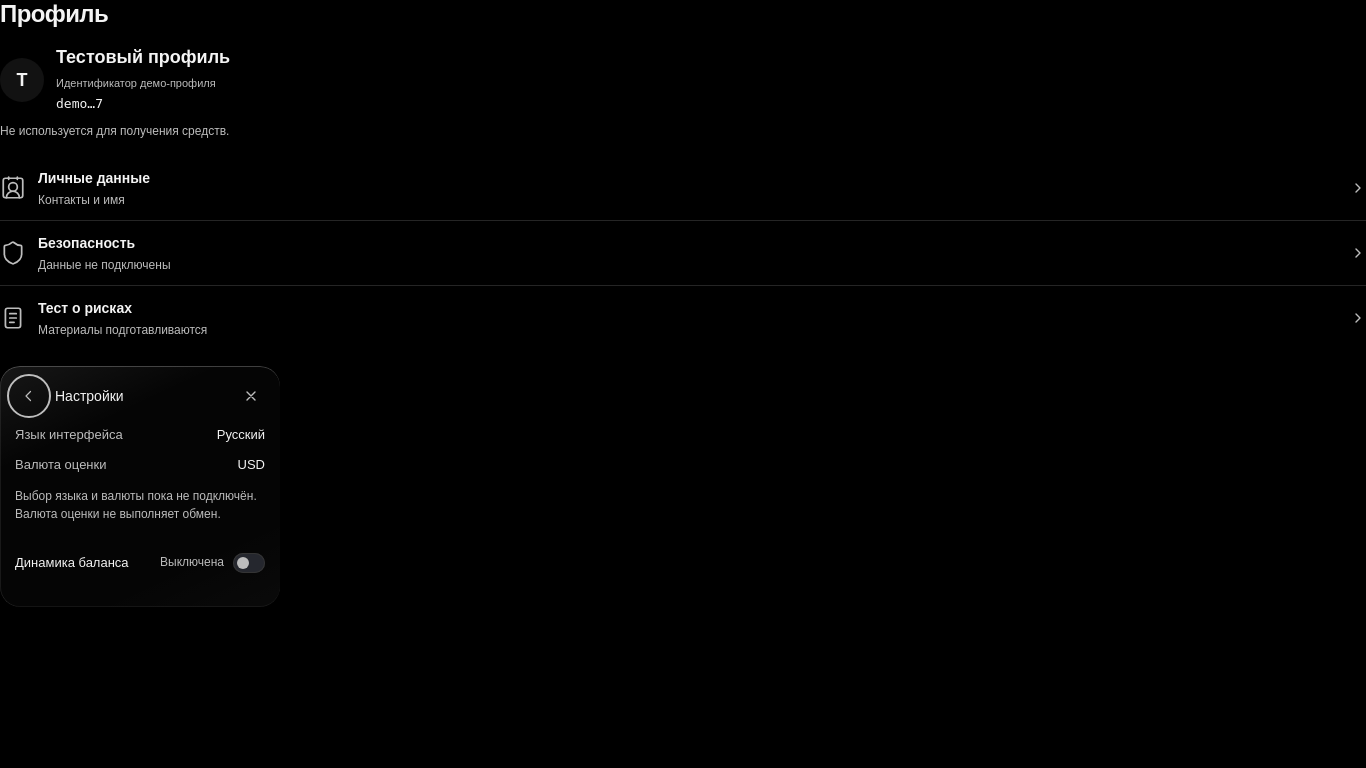
Test case: balance dynamics Profile Settings shares the Gold host control with ready profile data
Click the switch labelled "Динамика баланса" at coordinates (140, 563), box [15, 535, 265, 591]
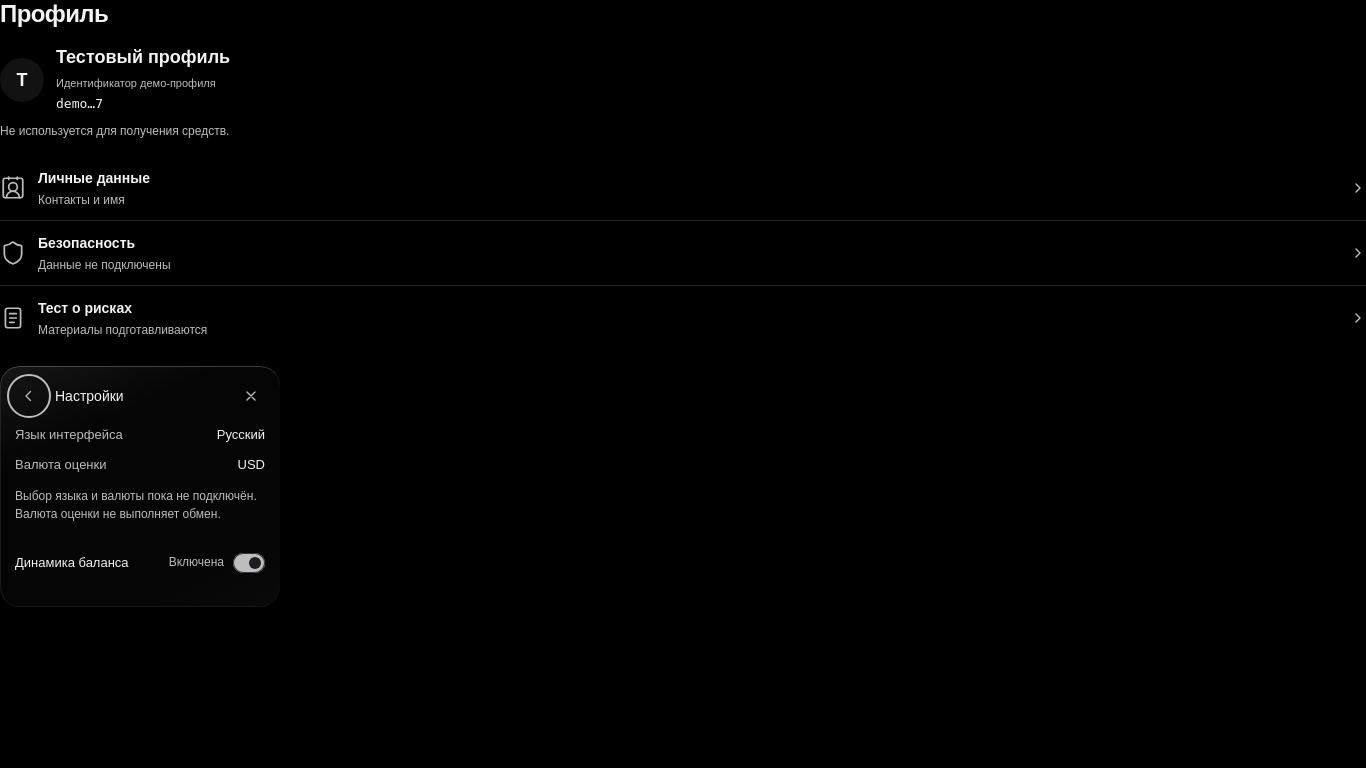
Expected: the switch labelled "Динамика баланса" is checked, [15, 535, 265, 591]
Click the button named "Назад в профиль" at coordinates (29, 396), box [7, 374, 51, 418]
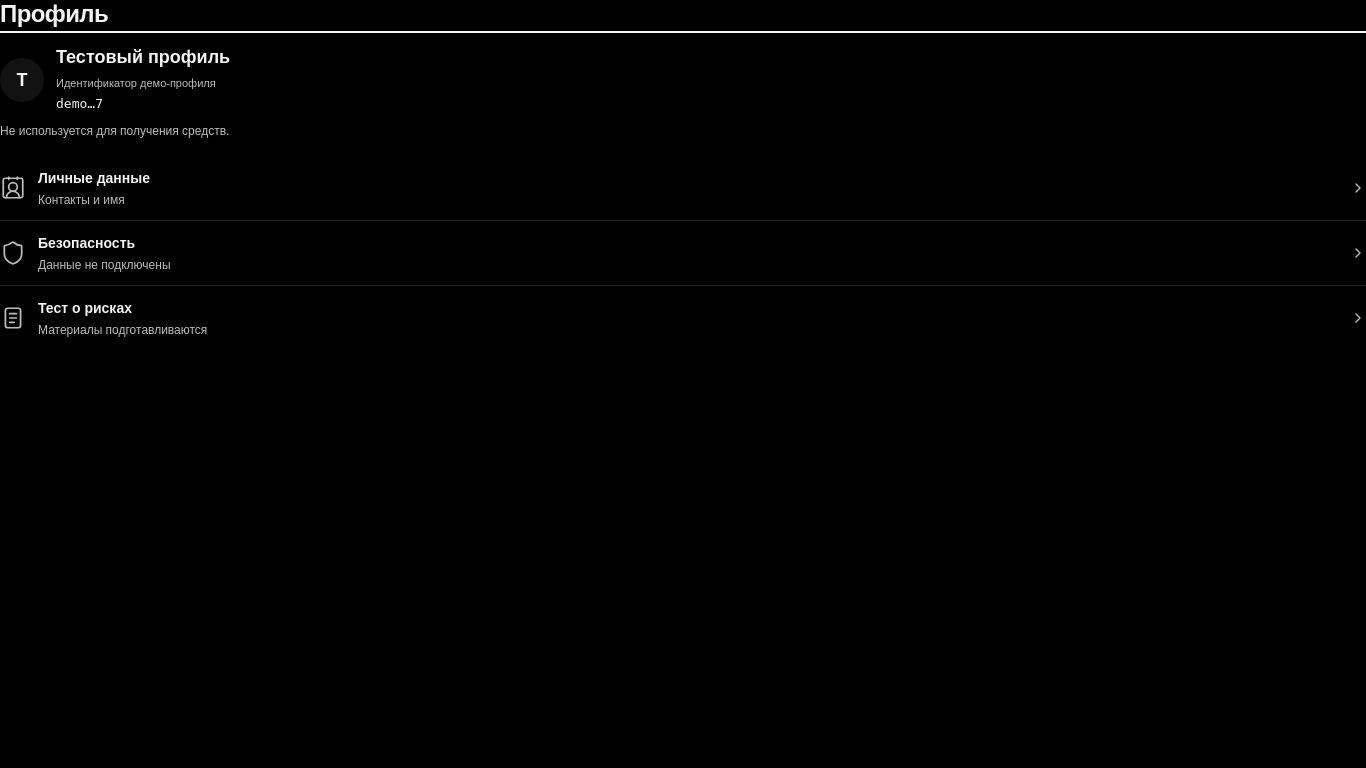
Expected: the switch labelled "Динамика баланса" is gone
